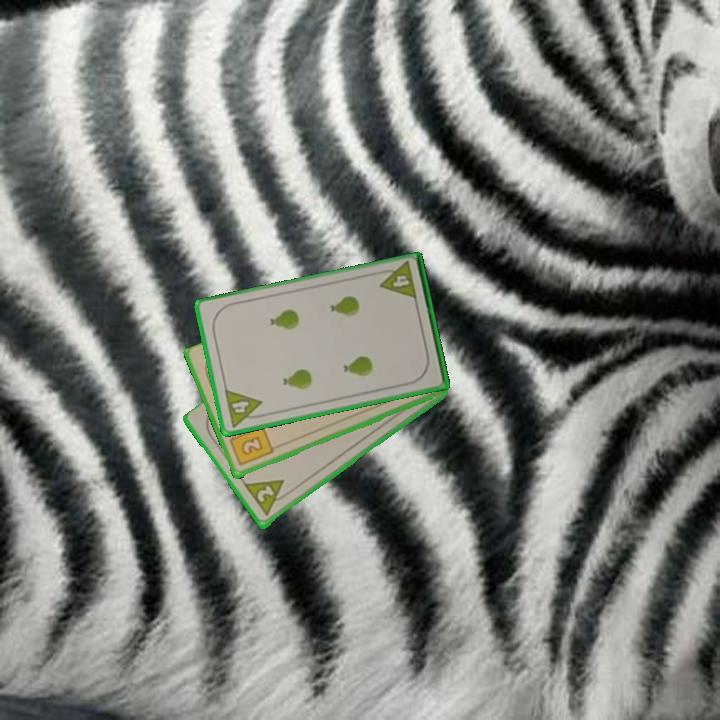2b: (226, 423, 276, 469)
2p: (253, 482, 277, 506)
4p: (221, 386, 267, 430), (374, 259, 420, 303)
